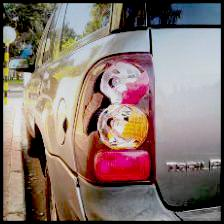tail_lamp: (76, 54, 159, 190)
